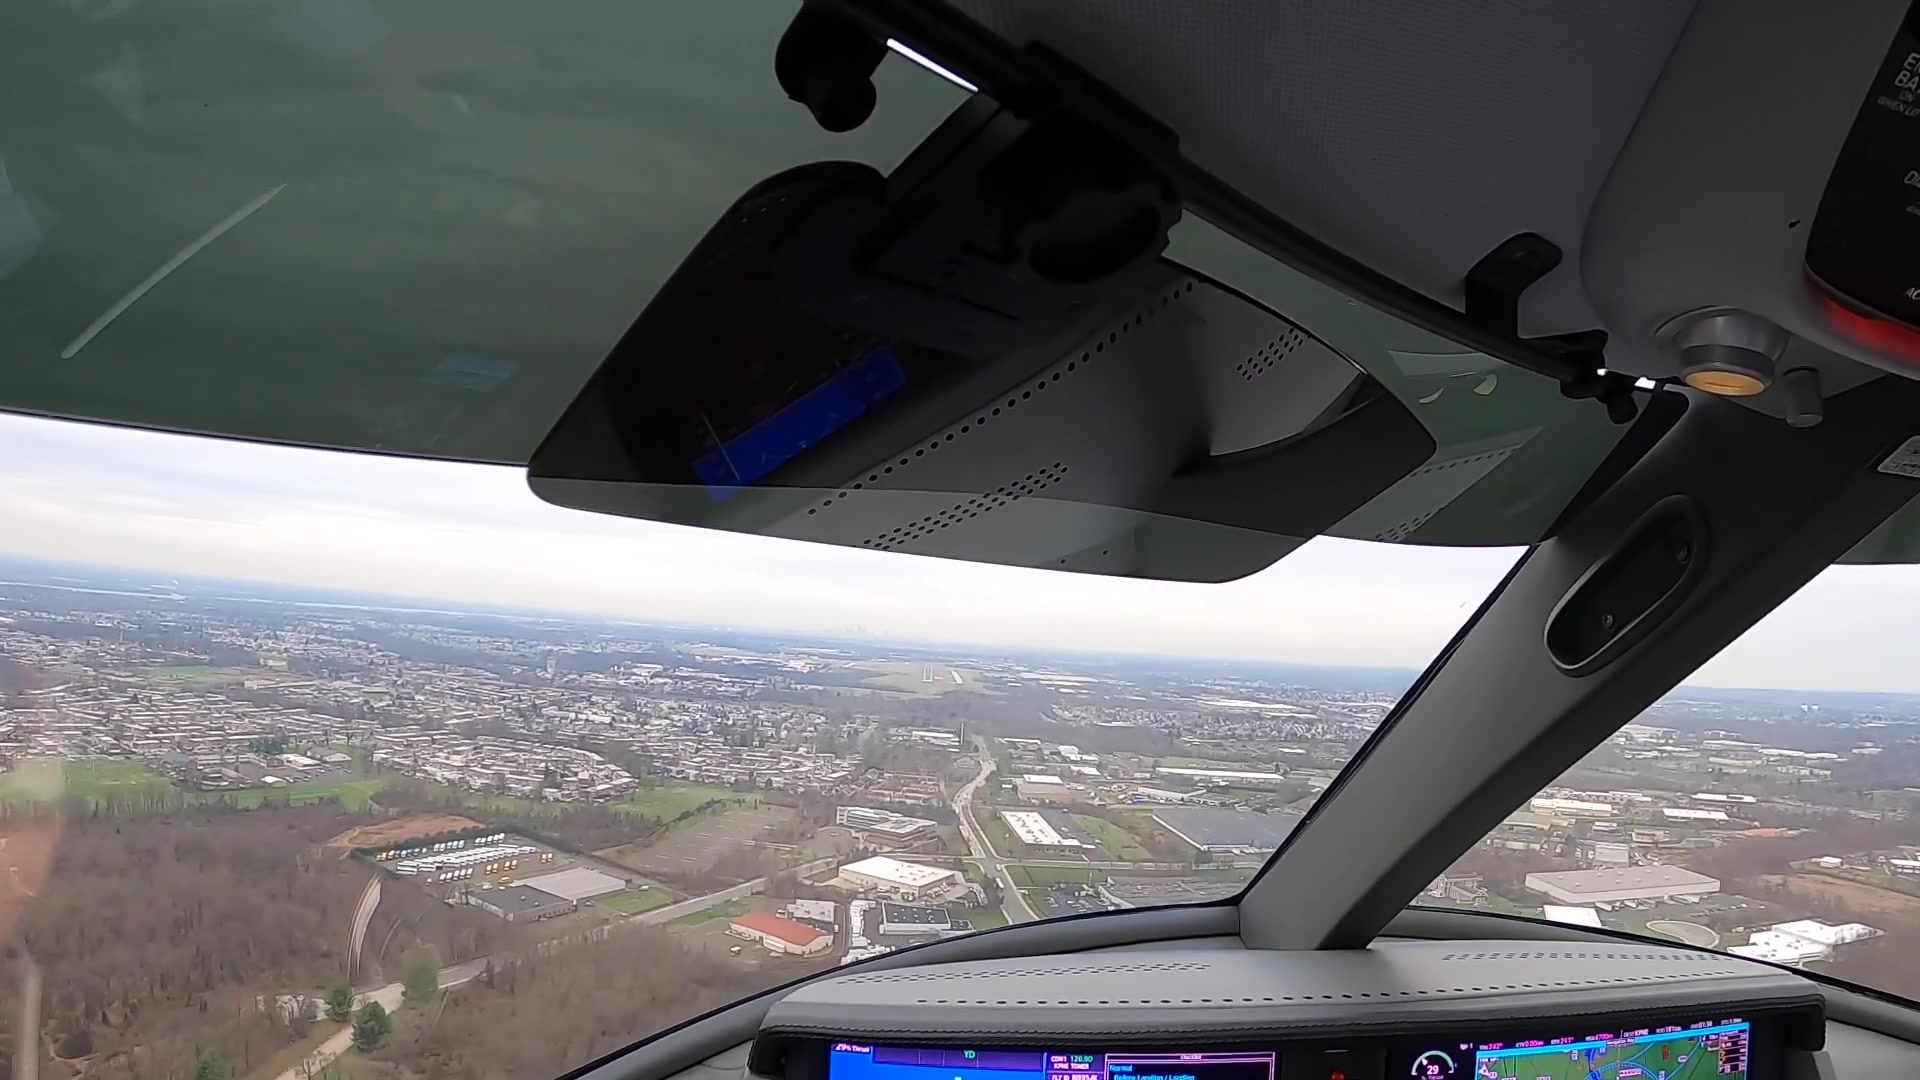runway: (920, 659, 935, 684)
